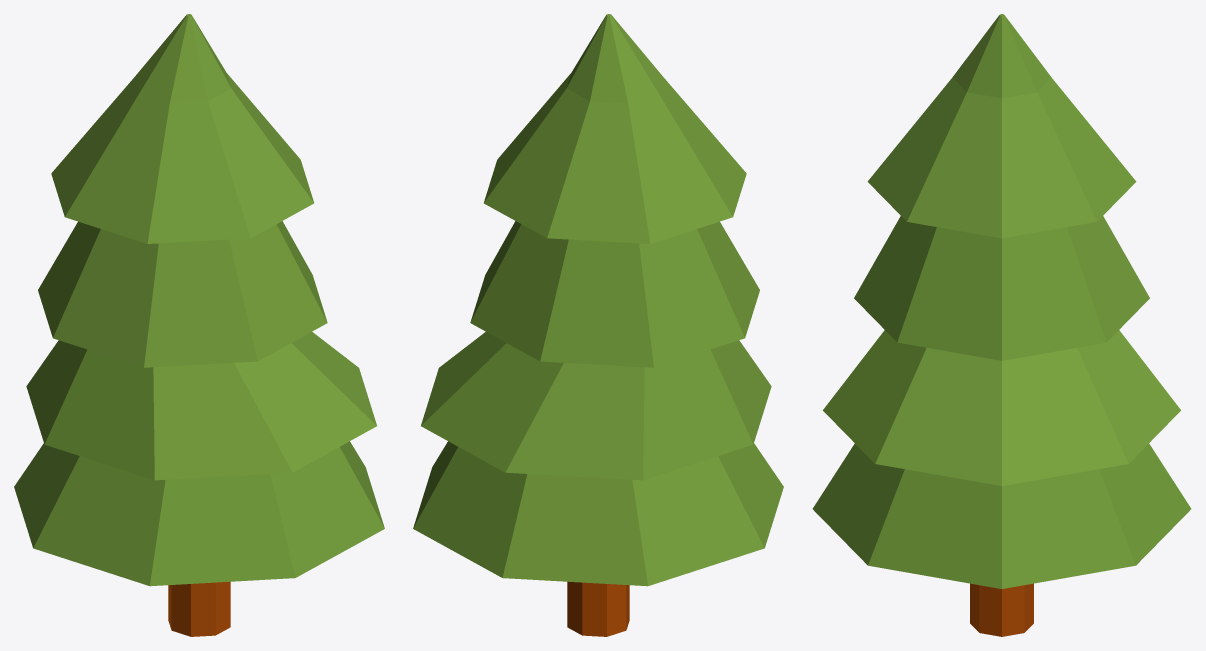
The model's file is tree.glb.
3 renders of one model, left to right at view 1: azimuth 30°, elevation 25°; view 2: azimuth 150°, elevation 25°; view 3: azimuth 270°, elevation 25°, orthographic.
Visible parts, largest first — view 1: Low poly tree; view 2: Low poly tree; view 3: Low poly tree.
Boxes of the visible parts, left/top/right/bottom form: Low poly tree: left=14, top=14, right=384, bottom=636; Low poly tree: left=413, top=14, right=783, bottom=636; Low poly tree: left=812, top=14, right=1191, bottom=636.
Bounding box in the file's own units: 3.21 × 5.64 × 3.21.
1 material, 1 textured.
